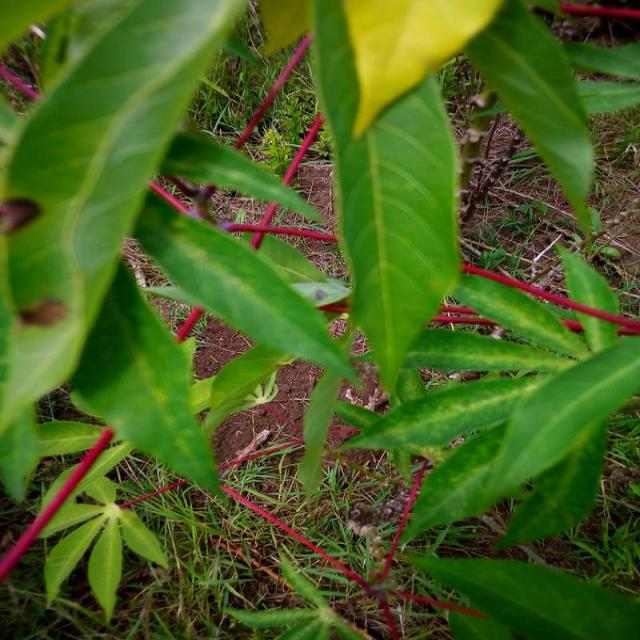cassava leaf: (310, 1, 464, 396)
